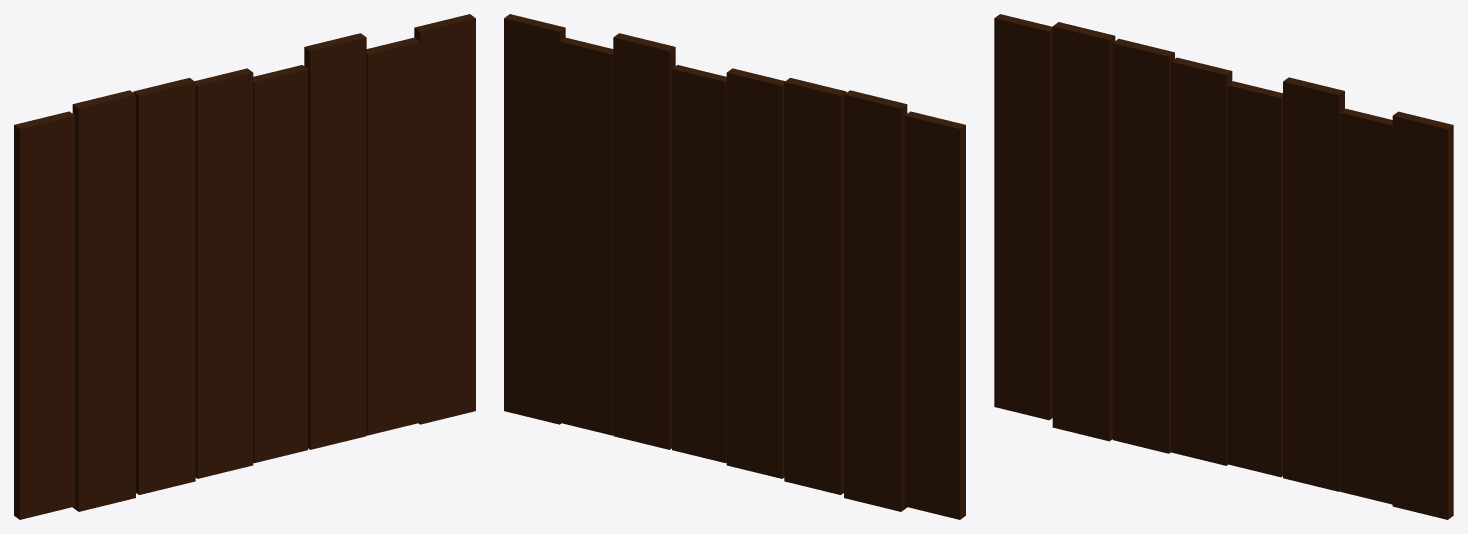
File: Fence.fbx
The picture shows the model from 3 angles, left to right: view 1: azimuth 30°, elevation 25°; view 2: azimuth 150°, elevation 25°; view 3: azimuth 330°, elevation 25°; orthographic projection.
Visible parts, largest first — view 1: Cube.005; view 2: Cube.005; view 3: Cube.005.
Part boxes in pixels (left/top/right/bottom): Cube.005: left=14, top=14, right=475, bottom=519; Cube.005: left=504, top=14, right=965, bottom=519; Cube.005: left=994, top=14, right=1453, bottom=519.
Size of the model in its own units: 700 by 593 by 15.93.
